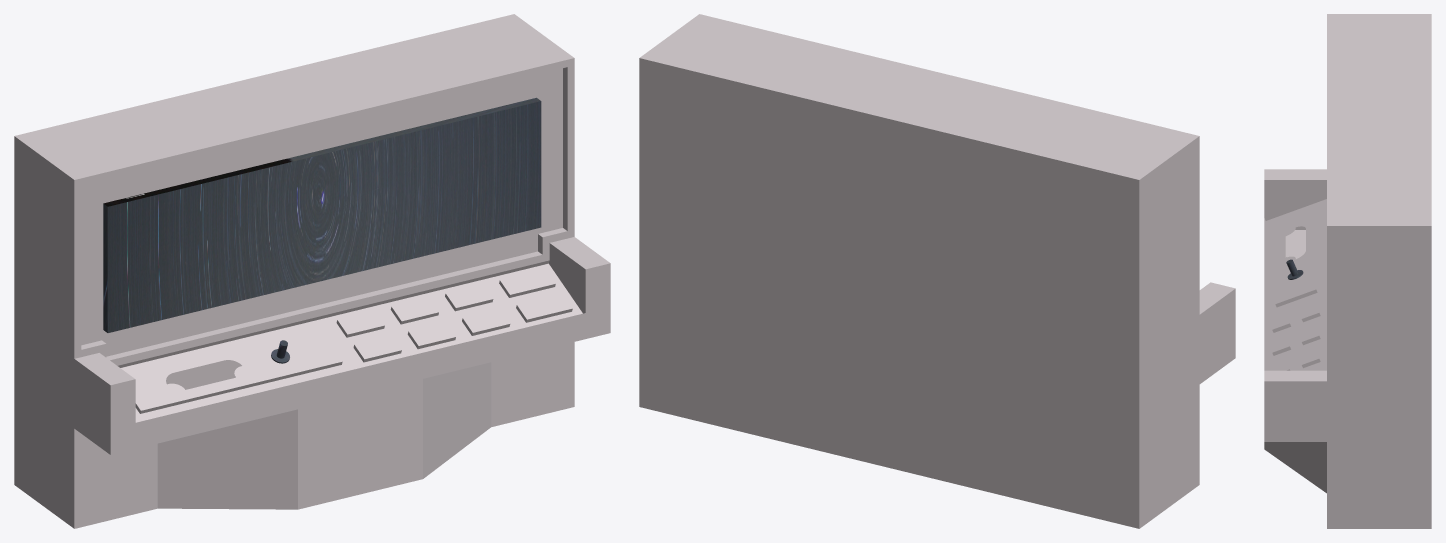
The model's file is Terminal.fbx.
3 views of the same model, side by side, from view 1: azimuth 30°, elevation 25°; view 2: azimuth 150°, elevation 25°; view 3: azimuth 270°, elevation 25° (orthographic). The views are drawn at different scales.
Visible parts, largest first — view 1: Terminal; view 2: Terminal; view 3: Terminal.
Part boxes in pixels (x1,y1,x2,y2): Terminal: (14, 14, 610, 528); Terminal: (639, 14, 1235, 528); Terminal: (1264, 14, 1431, 528).
Size of the model in its own units: 100 by 300 by 200.
2 materials, 1 textured.
